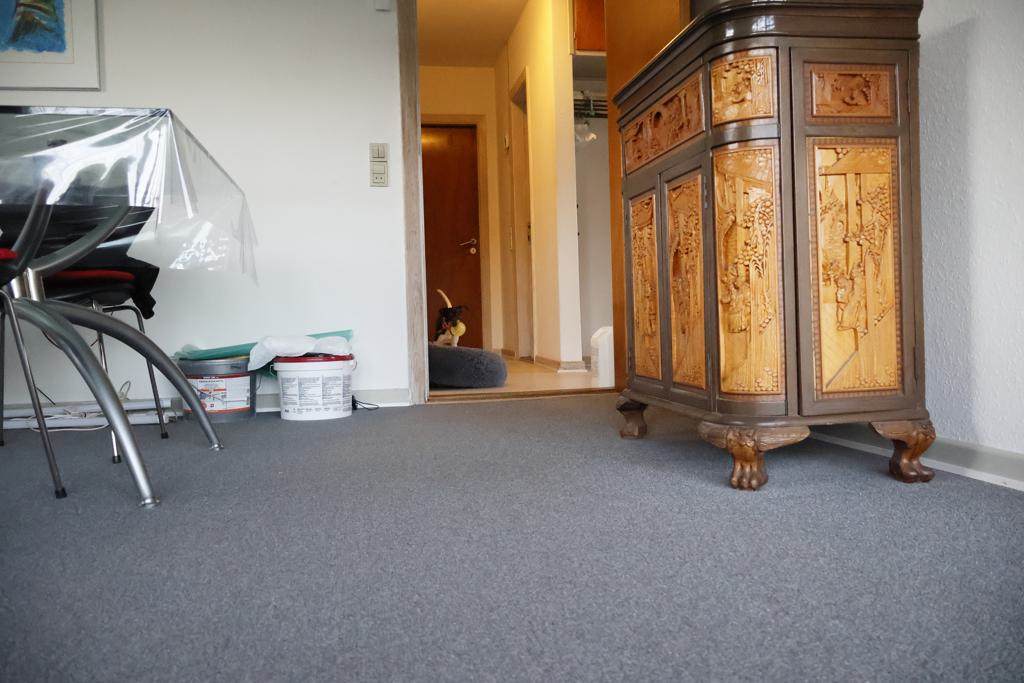Dog: (429, 284, 473, 351)
